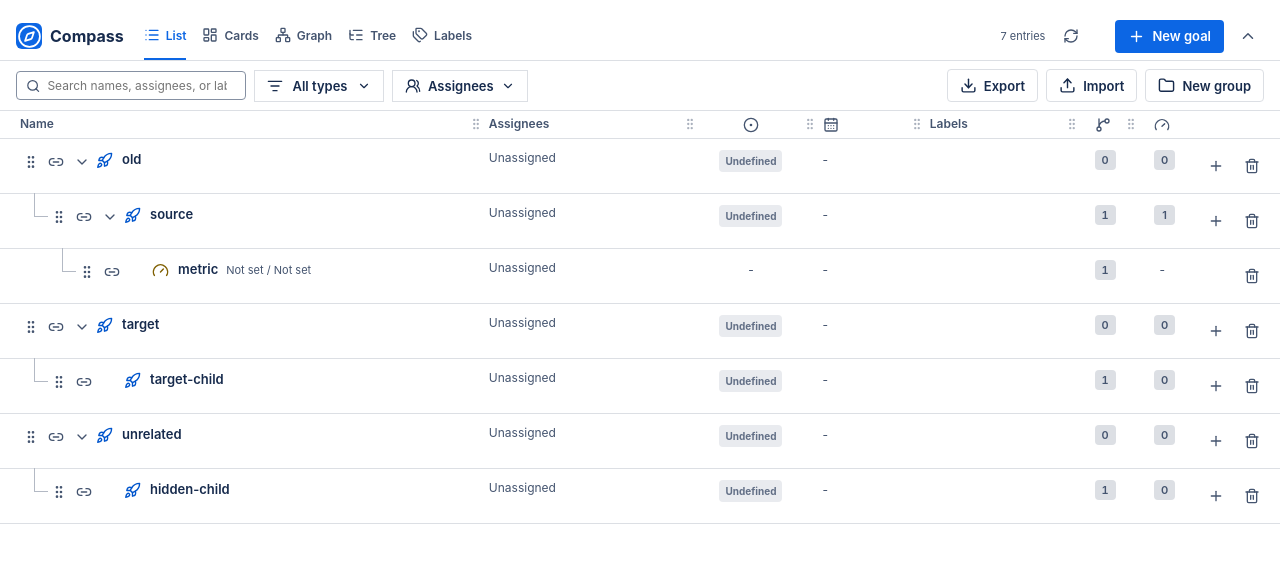
Scenario: given a drag from .link-drop-target to .drop-inside, its save uses the correct link or move operation
The image size is (1280, 564).
Click the button named "Collapse source": [110, 217] box [98,205,122,229]
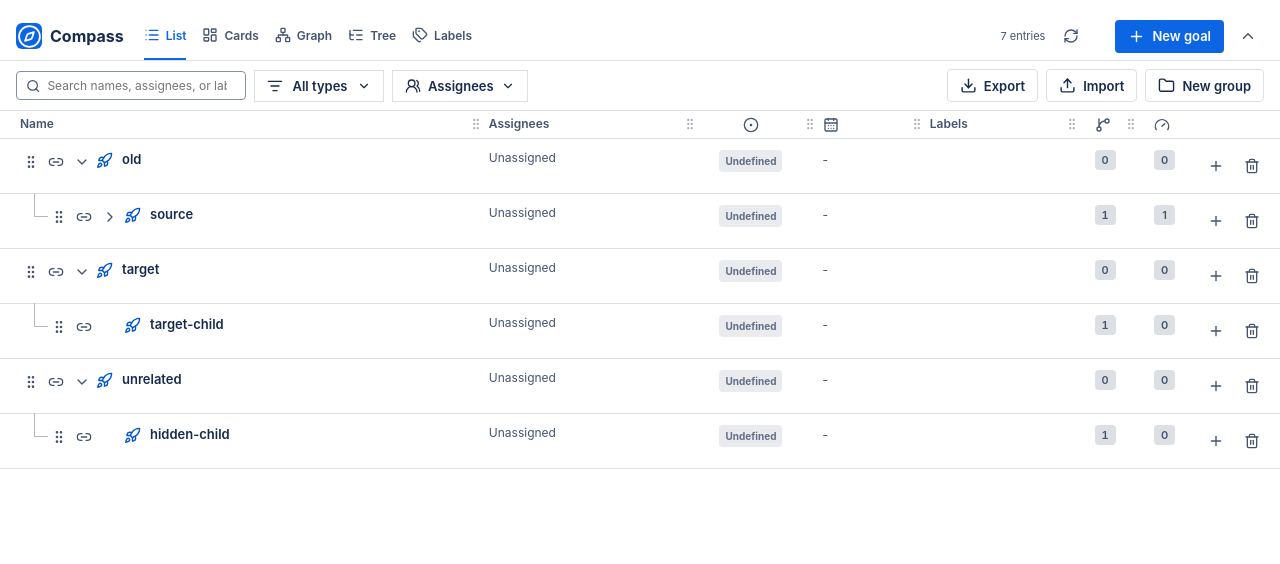
Click the button named "Collapse target": [82, 272] box [70,260,94,284]
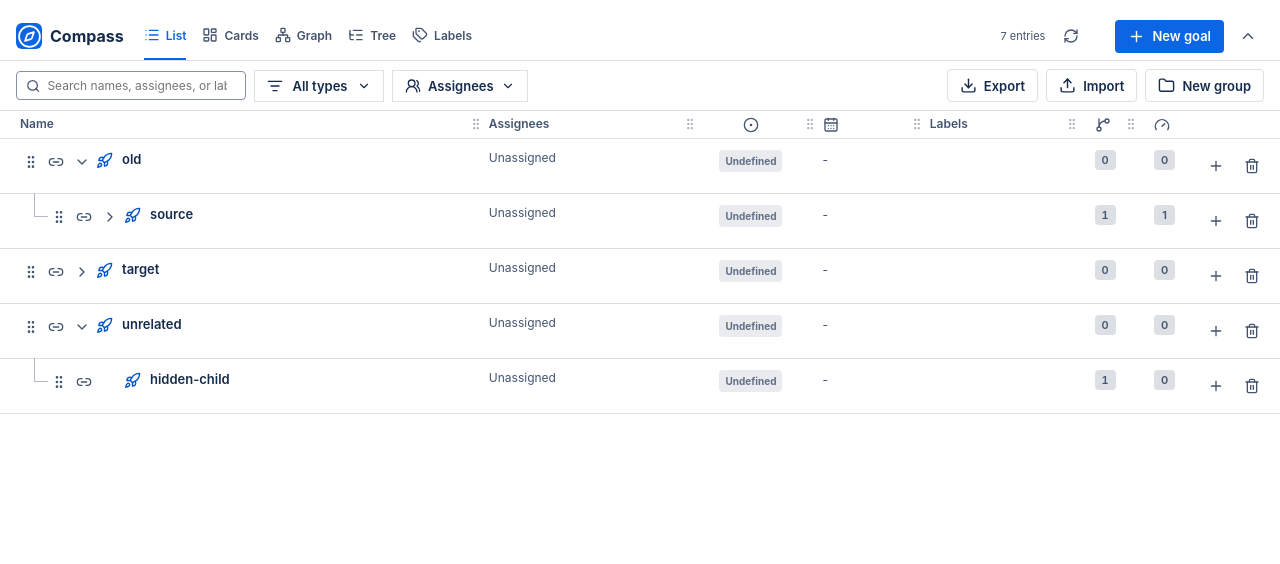
Click the button named "Collapse unrelated": [82, 327] box [70,315,94,339]
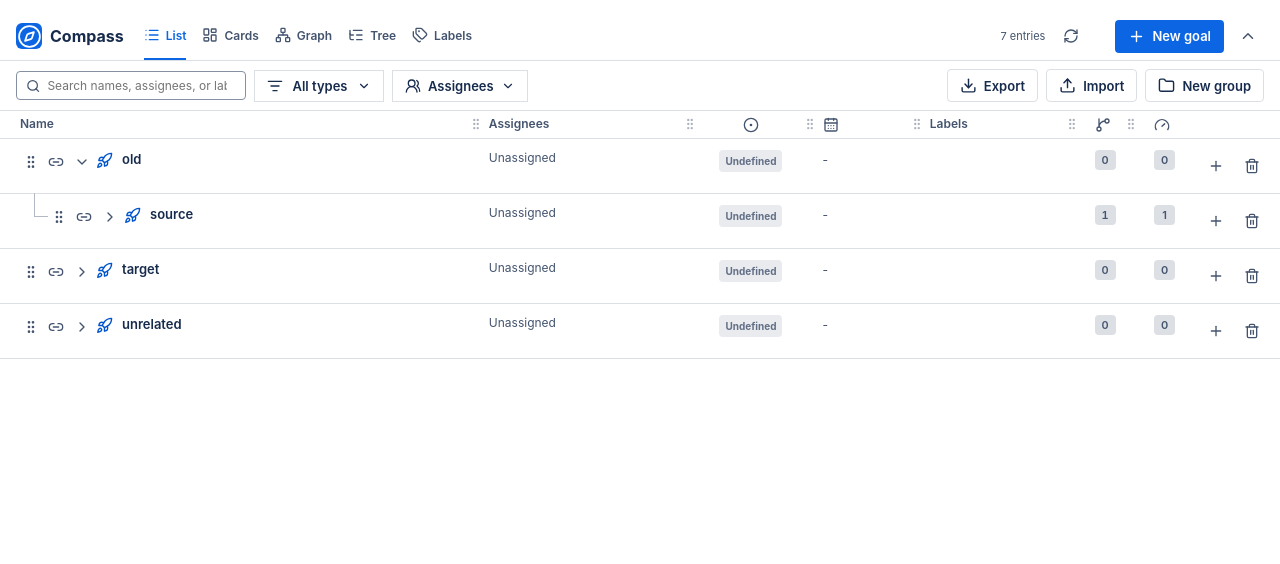
Press the mouse on the button named "Link source": [84, 217] box [72,205,96,229]
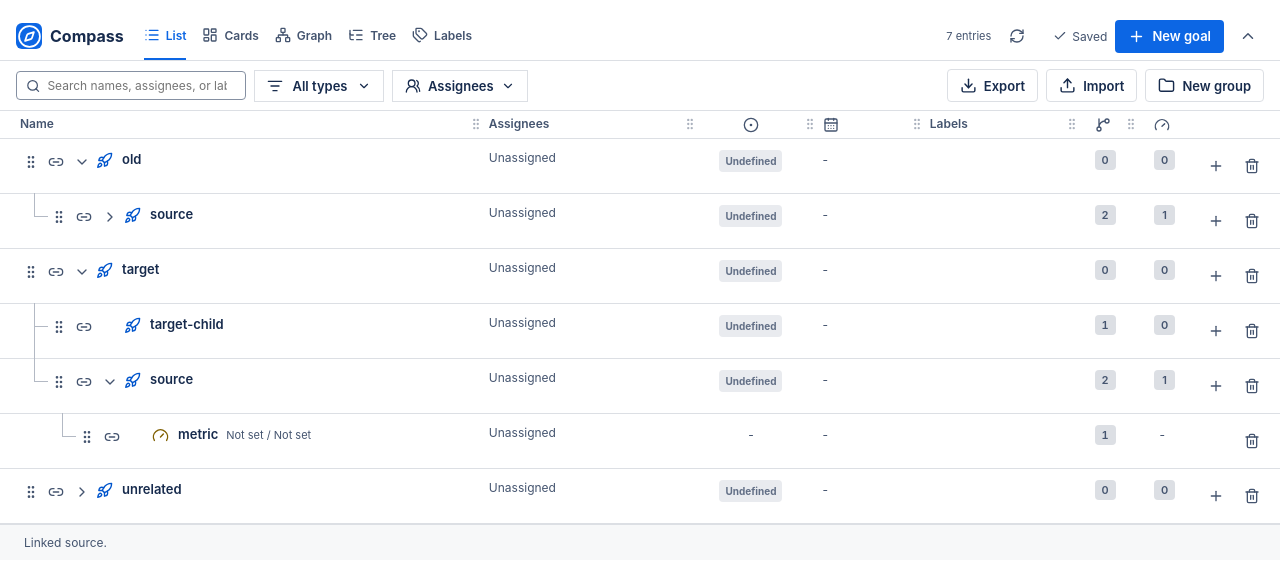
Expected: the button named "Collapse unrelated" is shown, [70,480,94,504]
Now the row "target-child Unassigned Undefined - 1 0" is shown, box [0,303,1279,358]
